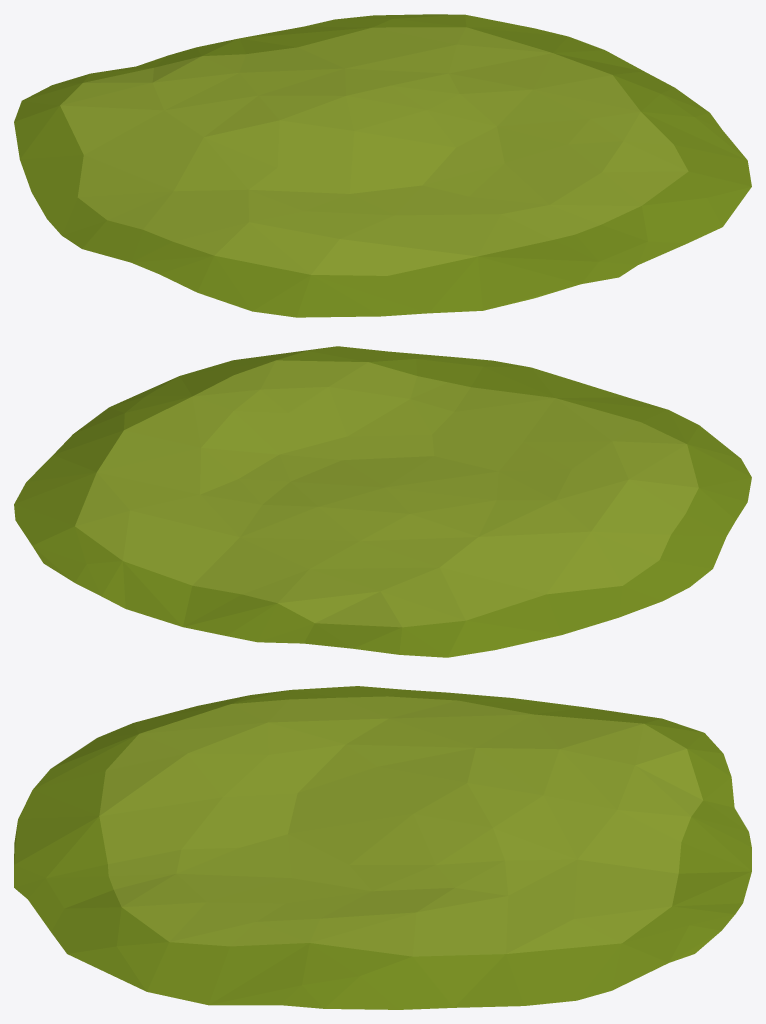
The model's file is EA_M_Env_Grass_05a.fbx.
3 renders of one model, top to bottom at view 1: azimuth 30°, elevation 25°; view 2: azimuth 150°, elevation 25°; view 3: azimuth 270°, elevation 25°, orthographic. The views are drawn at different scales.
Parts seen in each view (by area): view 1: EA_M_Env_Grass_05a_LOD0; view 2: EA_M_Env_Grass_05a_LOD0; view 3: EA_M_Env_Grass_05a_LOD0.
Boxes of the visible parts, x1=… form: EA_M_Env_Grass_05a_LOD0: x1=14, y1=14, x2=751, y2=317; EA_M_Env_Grass_05a_LOD0: x1=14, y1=346, x2=751, y2=657; EA_M_Env_Grass_05a_LOD0: x1=14, y1=686, x2=751, y2=1009.
Size of what is drawn, in the model's own units: 7.17 by 0.418 by 6.95.
